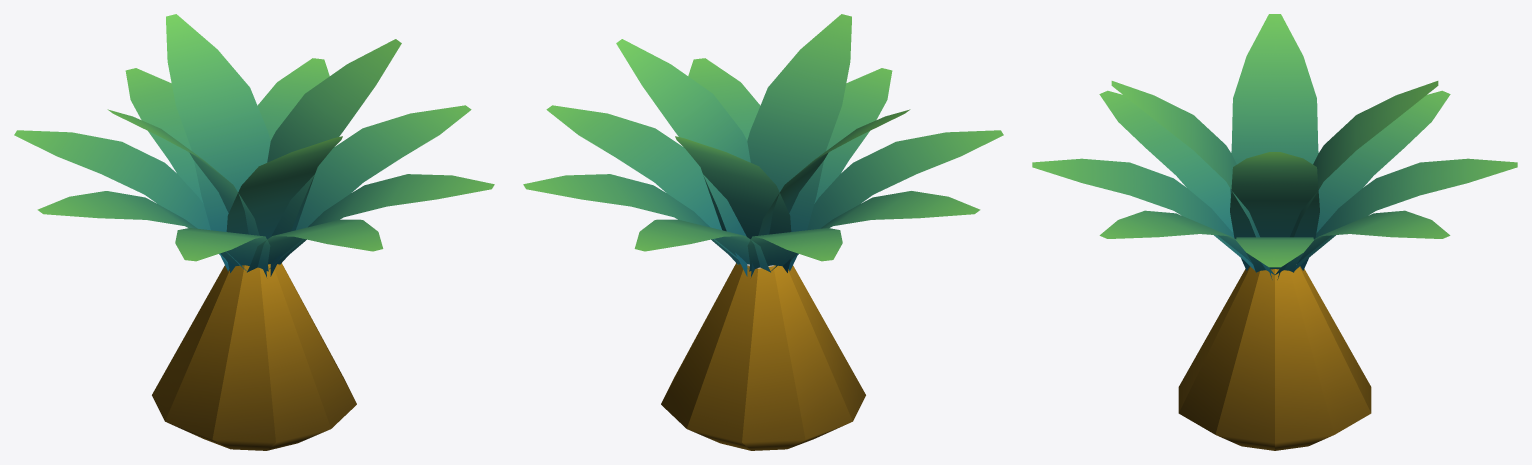
The model's file is Dino_WaterWeed.fbx.
The picture shows the model from 3 angles, left to right: view 1: azimuth 30°, elevation 25°; view 2: azimuth 150°, elevation 25°; view 3: azimuth 270°, elevation 25°; orthographic projection.
Parts seen in each view (by area): view 1: weedBase, leaf57, leaf60, leaf56, leaf63, leaf25, leaf59, leaf62, leaf64, leaf31, leaf65, leaf61 (+1 smaller); view 2: weedBase, leaf25, leaf60, leaf56, leaf65, leaf57, leaf61, leaf31, leaf64, leaf62, leaf63, leaf59 (+1 smaller); view 3: weedBase, leaf58, leaf56, leaf31, leaf62, leaf63, leaf65, leaf25, leaf57, leaf59, leaf61, leaf60.
Boxes of the visible parts, x1,y1,x2,y2 form: weedBase: (152,263,356,450); leaf57: (166,14,270,271); leaf60: (279,105,471,264); leaf56: (267,39,401,276); leaf63: (14,130,227,262); leaf25: (226,136,342,272); leaf59: (269,174,494,269); leaf62: (125,68,203,203); leaf64: (37,191,247,271); leaf31: (247,219,383,272); leaf65: (175,228,270,271); leaf61: (257,58,329,140); weedBase: (661,263,865,450); leaf25: (747,14,851,271); leaf60: (546,105,738,264); leaf56: (616,39,750,276); leaf65: (790,130,1003,262); leaf57: (675,136,791,272); leaf61: (523,174,748,269); leaf31: (814,68,892,203); leaf64: (770,191,980,271); leaf62: (634,219,770,272); leaf63: (747,228,842,271); leaf59: (688,58,760,140); weedBase: (1178,266,1371,450); leaf58: (1230,14,1319,196); leaf56: (1230,152,1319,270); leaf31: (1032,158,1256,272); leaf62: (1293,158,1517,272); leaf63: (1316,90,1450,233); leaf65: (1099,90,1233,233); leaf25: (1111,81,1272,279); leaf57: (1277,81,1438,279); leaf59: (1099,210,1274,274); leaf61: (1275,210,1450,274); leaf60: (1236,237,1313,272).
Size of the model in its own units: 2 by 1.56 by 2.
